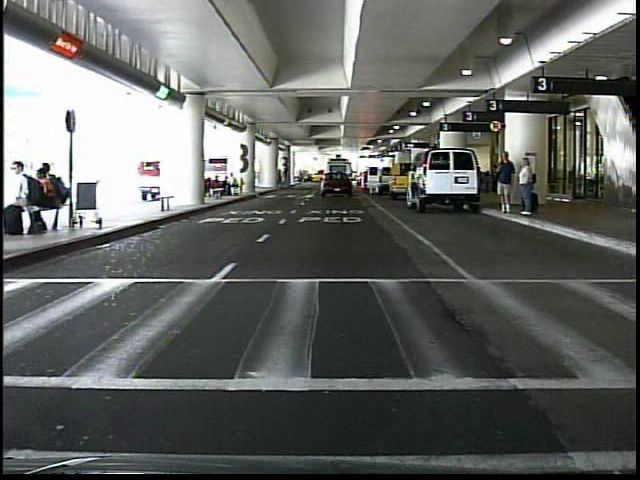person: (494, 146, 516, 217), (516, 154, 538, 222), (330, 170, 340, 193)
